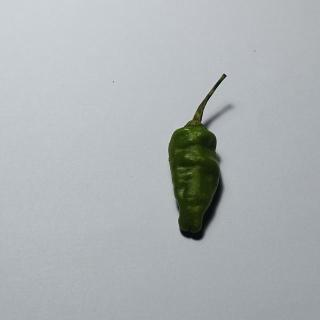Cabai Hijau: (163, 69, 245, 245)
